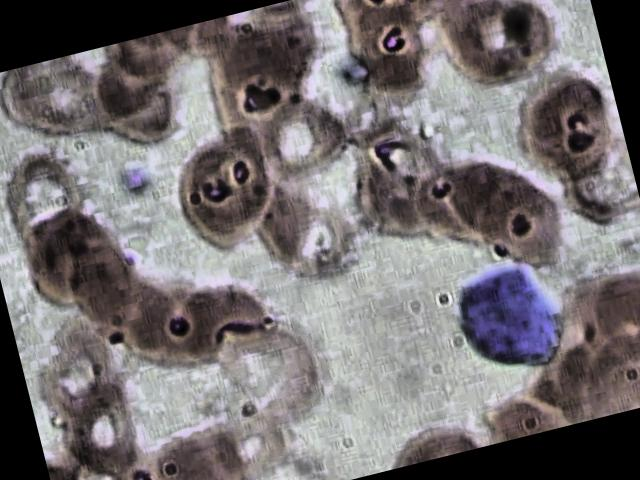Platelets: (328, 47, 371, 92), (116, 156, 158, 202)
RBC: (159, 123, 294, 268), (510, 55, 631, 197), (8, 193, 128, 315), (174, 250, 290, 374), (254, 178, 370, 302), (518, 318, 632, 433), (375, 140, 488, 254), (88, 44, 201, 158), (468, 169, 580, 283), (424, 141, 536, 255), (332, 0, 445, 112), (413, 0, 533, 104), (96, 260, 197, 377), (25, 316, 127, 431), (121, 264, 222, 380), (58, 239, 158, 356), (45, 364, 147, 478), (247, 85, 356, 188), (546, 129, 640, 238), (0, 136, 85, 251), (196, 400, 309, 480), (562, 251, 640, 365), (461, 0, 570, 79), (575, 304, 640, 418), (141, 425, 255, 480)
WBC: (428, 250, 572, 398)
